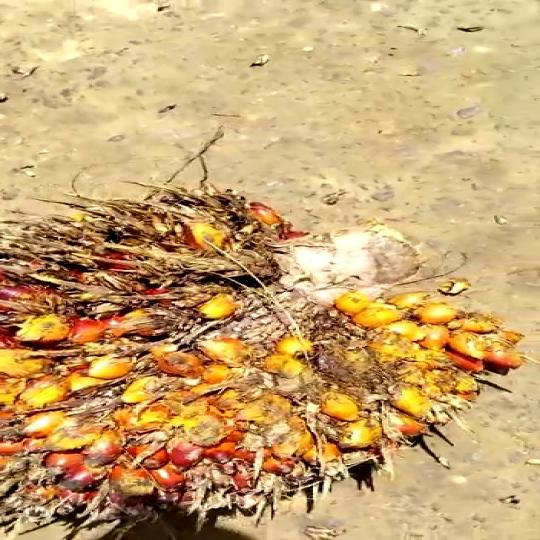masak: (0, 179, 517, 539)
